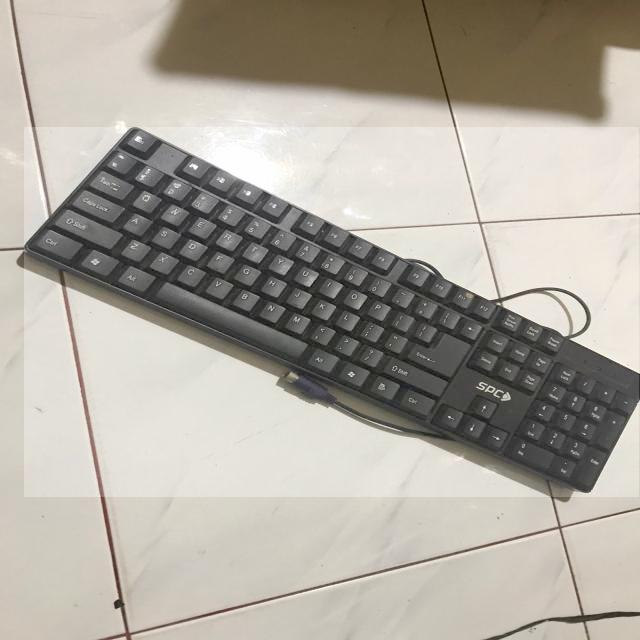-mouse-: (24, 127, 640, 497)
